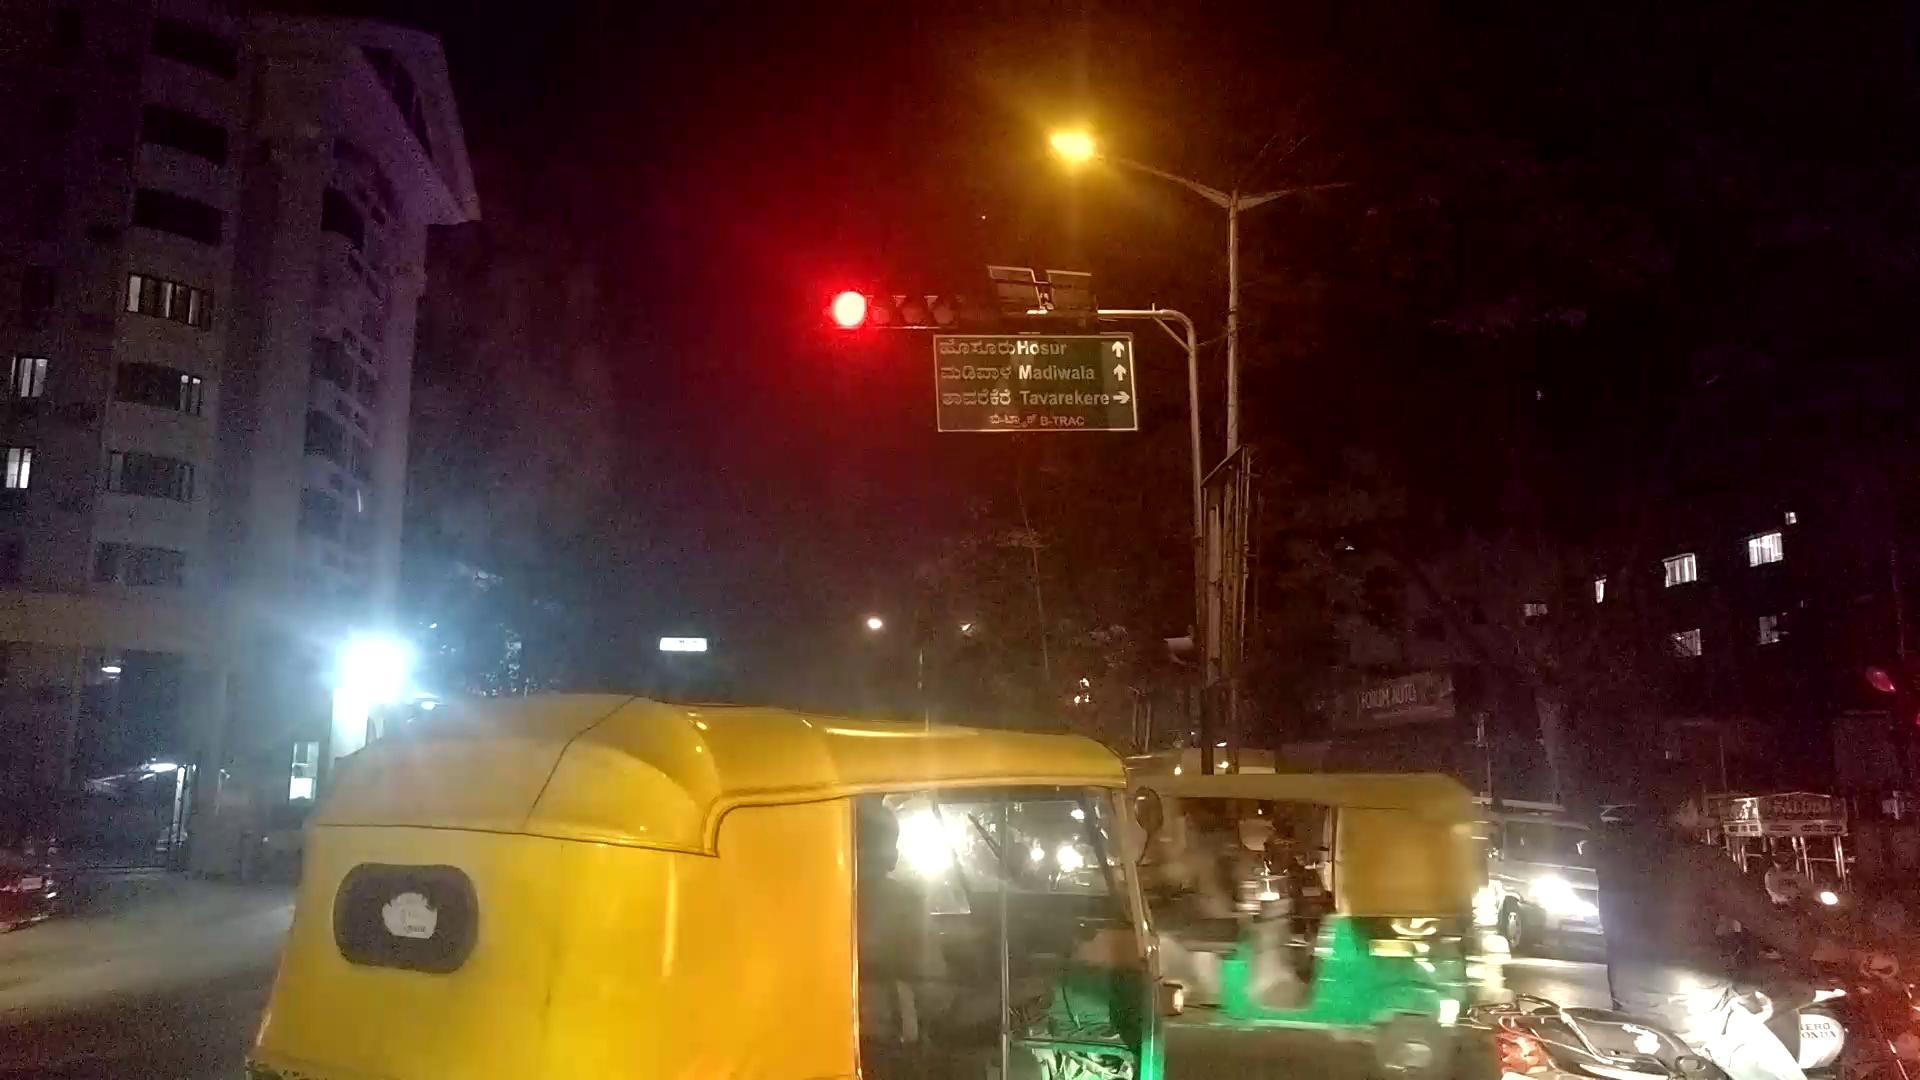on: (920, 73, 1255, 363)
